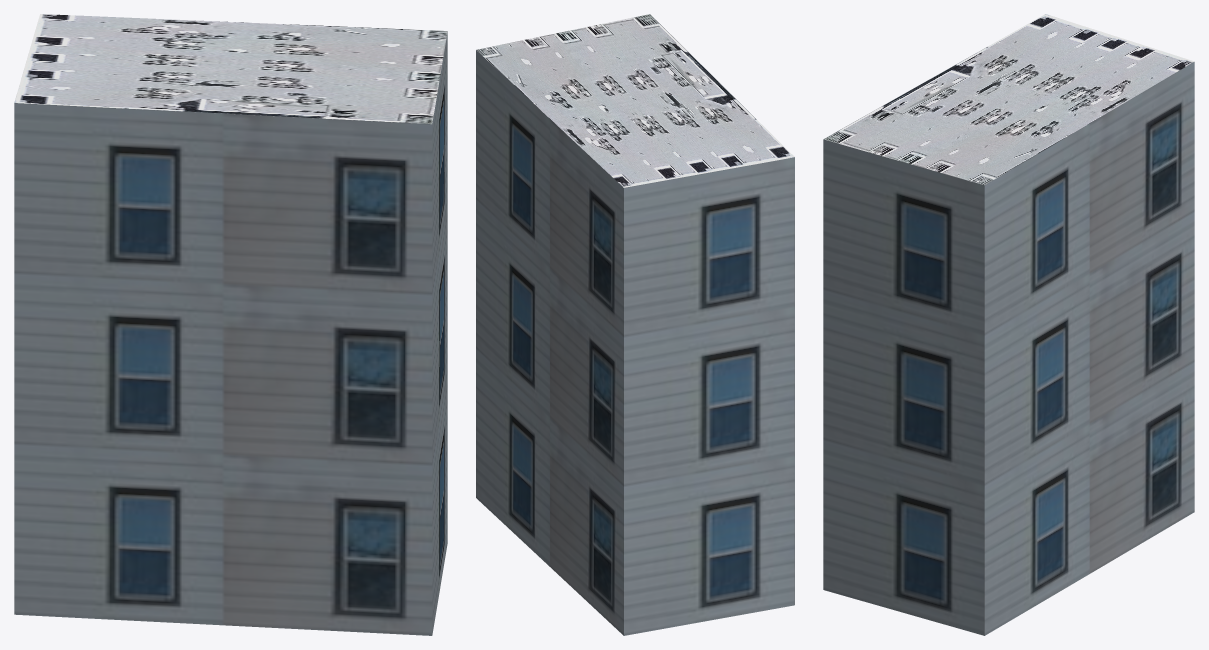
Rendered from ResTex__4451.fbx.
3 renders of one model, left to right at view 1: azimuth 30°, elevation 25°; view 2: azimuth 150°, elevation 25°; view 3: azimuth 270°, elevation 25°, orthographic. The views are drawn at different scales.
Visible parts, largest first — view 1: CityEngineMaterial_18_m, CityEngineMaterial_m; view 2: CityEngineMaterial_18_m, CityEngineMaterial_m; view 3: CityEngineMaterial_18_m, CityEngineMaterial_m.
Boxes of the visible parts, bbox=[...] form: CityEngineMaterial_18_m: bbox=[14, 33, 447, 635]; CityEngineMaterial_m: bbox=[14, 14, 447, 124]; CityEngineMaterial_18_m: bbox=[476, 50, 794, 635]; CityEngineMaterial_m: bbox=[476, 14, 794, 187]; CityEngineMaterial_18_m: bbox=[823, 62, 1194, 635]; CityEngineMaterial_m: bbox=[823, 14, 1194, 185].
Bounding box in the file's own units: 7.34 × 9 × 6.73.
2 materials, 2 textured.
